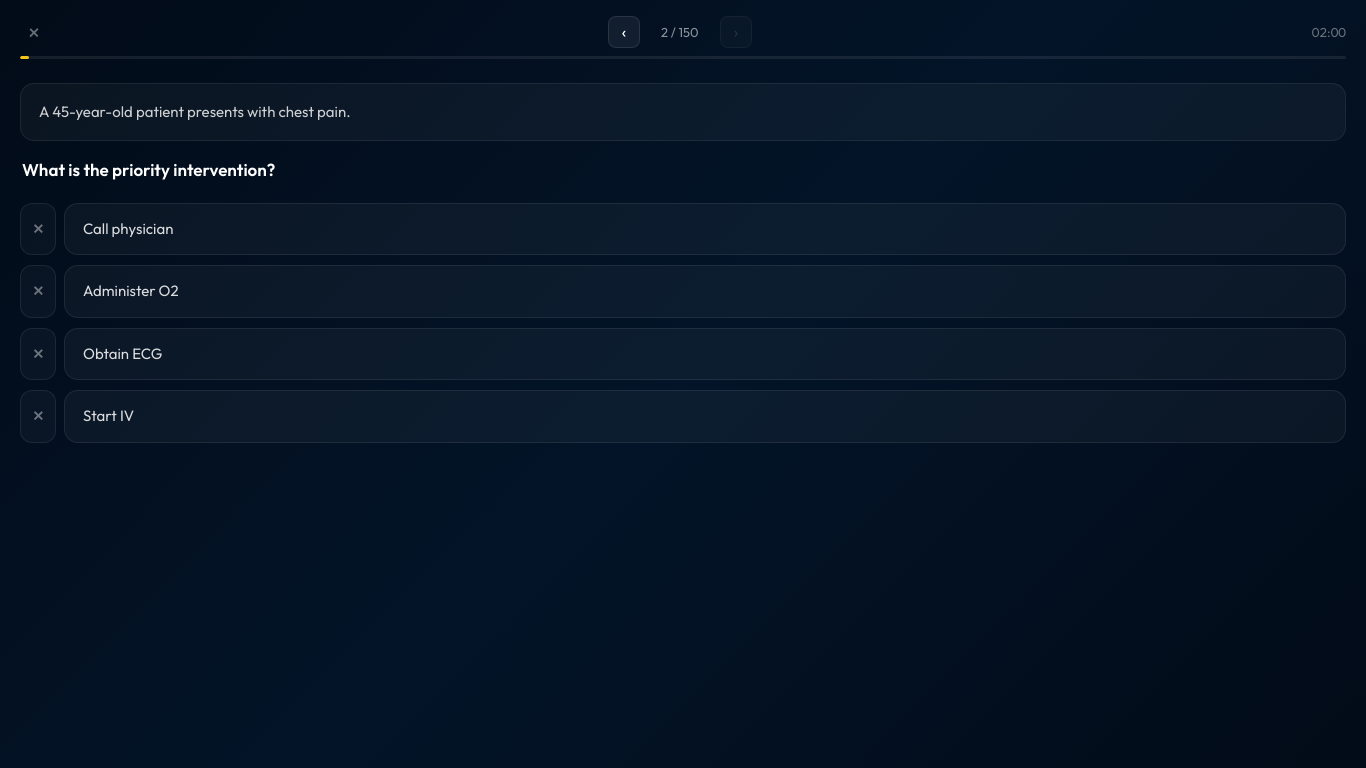
Test case: CATScreen › clicking prev renders the past question with the selected option highlighted and banner shown
The width and height of the screenshot is (1366, 768).
Step 1. Click the button named "Previous question" → (624,32), box [608, 16, 640, 48]
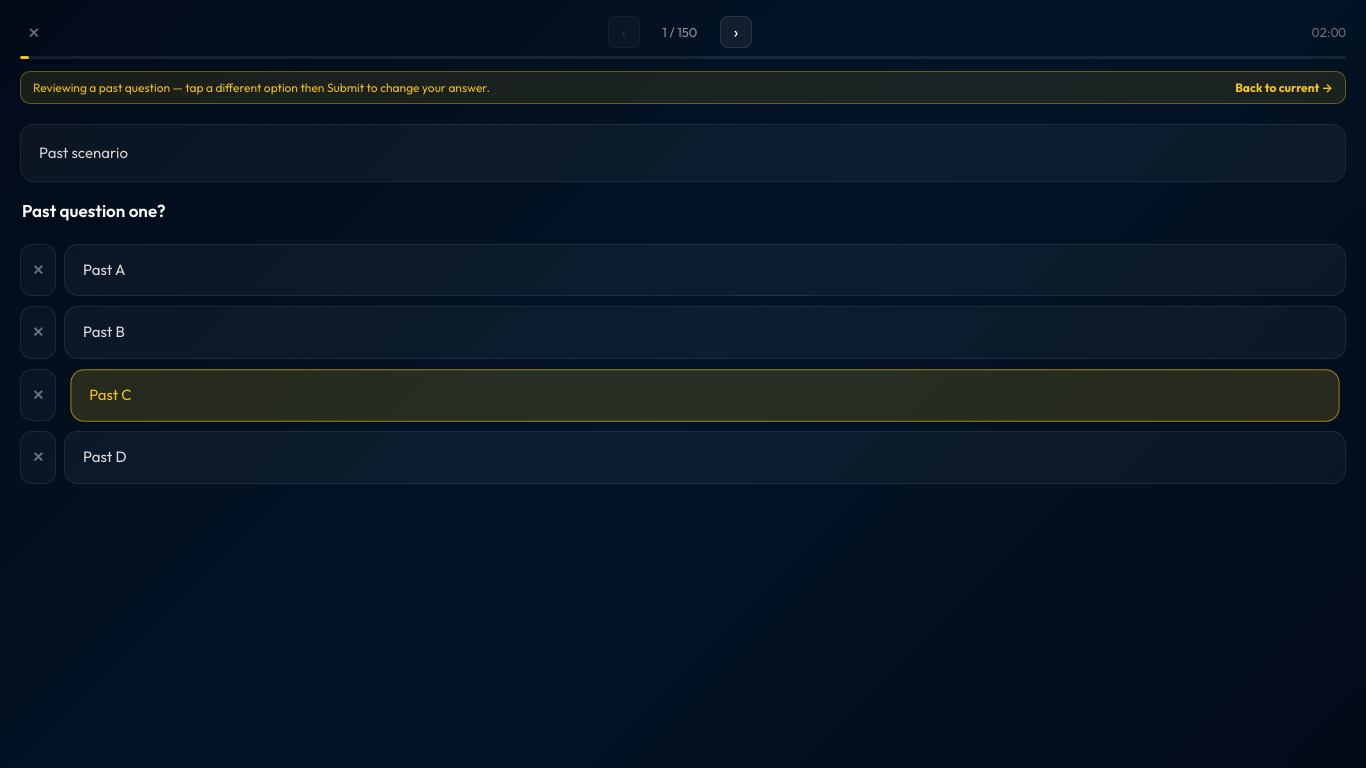
Check: the text "Past question one?" is shown, box [22, 200, 166, 221]
Check: the text "Past scenario" is shown, box [20, 124, 1346, 182]
Check: the text "Reviewing a past question" is shown, box [33, 80, 490, 95]
